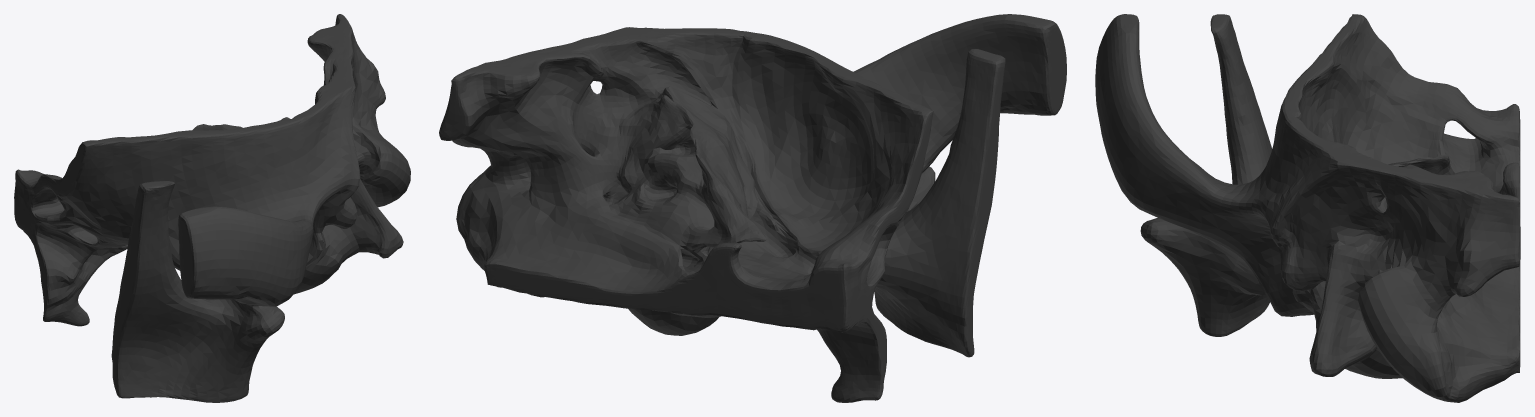
Rendered from Cut_skull_bone_L.glb.
3 views of the same model, side by side, from view 1: azimuth 30°, elevation 25°; view 2: azimuth 150°, elevation 25°; view 3: azimuth 270°, elevation 25° (orthographic). The views are drawn at different scales.
Visible parts, largest first — view 1: Cut_skull_bone_L; view 2: Cut_skull_bone_L; view 3: Cut_skull_bone_L.
Boxes of the visible parts, box(x1,y1,x2,y2) form: Cut_skull_bone_L: box(14, 14, 410, 402); Cut_skull_bone_L: box(439, 14, 1066, 402); Cut_skull_bone_L: box(1095, 14, 1520, 402).
Bounding box in the file's own units: 22.01 × 13.49 × 19.52.
Materials: 1 (1 with a texture image).
